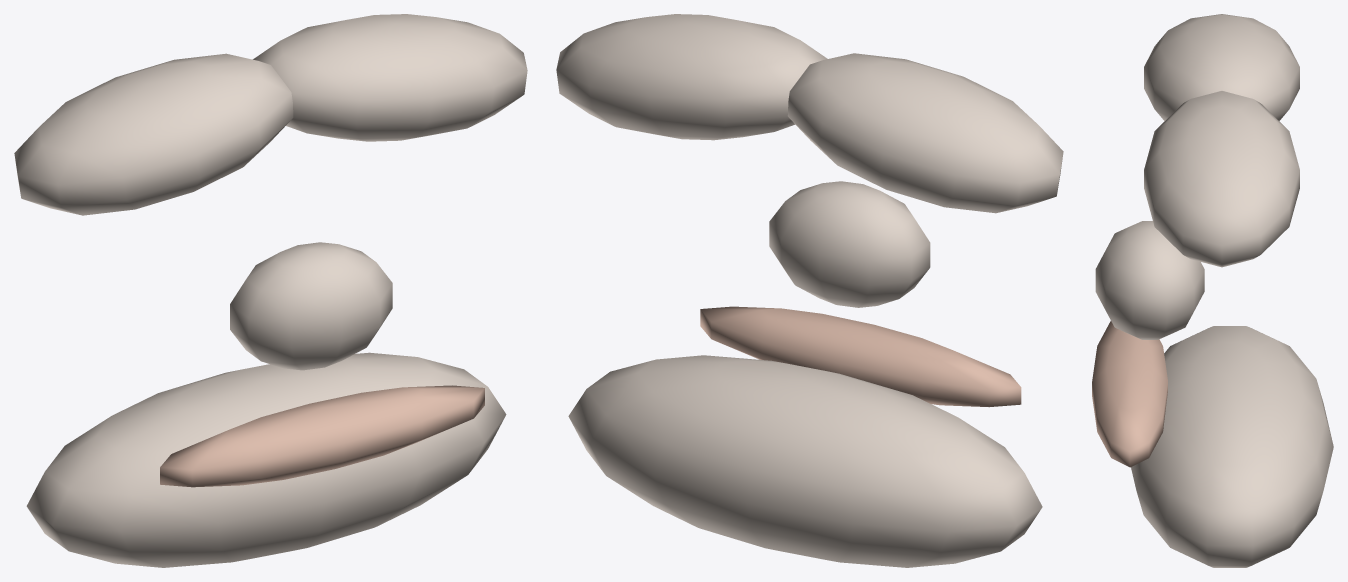
The model's file is race_ogre_face.glb.
3 renders of one model, left to right at view 1: azimuth 30°, elevation 25°; view 2: azimuth 150°, elevation 25°; view 3: azimuth 270°, elevation 25°, orthographic. The views are drawn at different scales.
Visible parts, largest first — view 1: race_ogre_face; view 2: race_ogre_face; view 3: race_ogre_face.
Part boxes in pixels (bbox=[...]): race_ogre_face: bbox=[14, 14, 527, 567]; race_ogre_face: bbox=[556, 14, 1063, 567]; race_ogre_face: bbox=[1092, 14, 1333, 567].
Size of the model in its own units: 0.6516 by 0.6089 by 0.3026.
